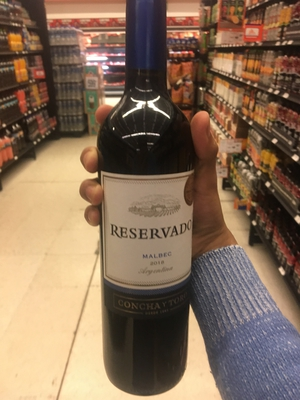reservado malbec: (99, 14, 196, 385)
